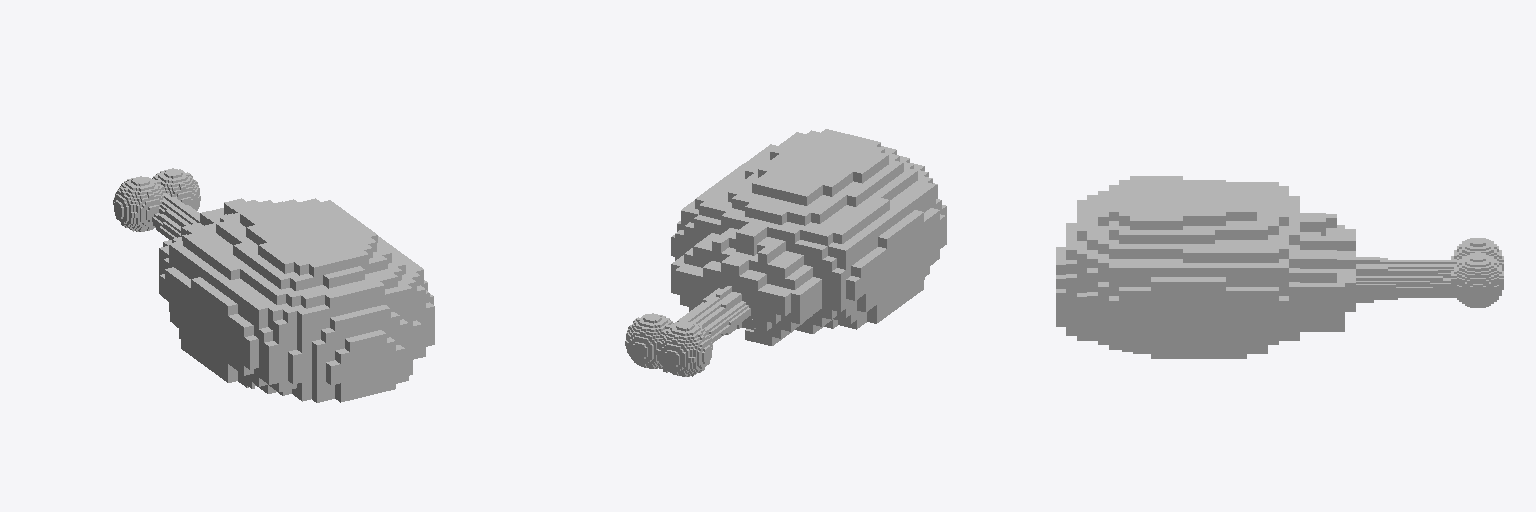
File: chicken.obj
3 views of the same model, side by side, from view 1: azimuth 30°, elevation 25°; view 2: azimuth 150°, elevation 25°; view 3: azimuth 270°, elevation 25° (orthographic).
Visible parts, largest first — view 1: object 1; view 2: object 1; view 3: object 1.
Part boxes in pixels (bbox=[...]): object 1: bbox=[113, 168, 434, 402]; object 1: bbox=[625, 129, 946, 376]; object 1: bbox=[1056, 176, 1503, 358].
Size of the model in its own units: 8 by 4.8 by 16.9.